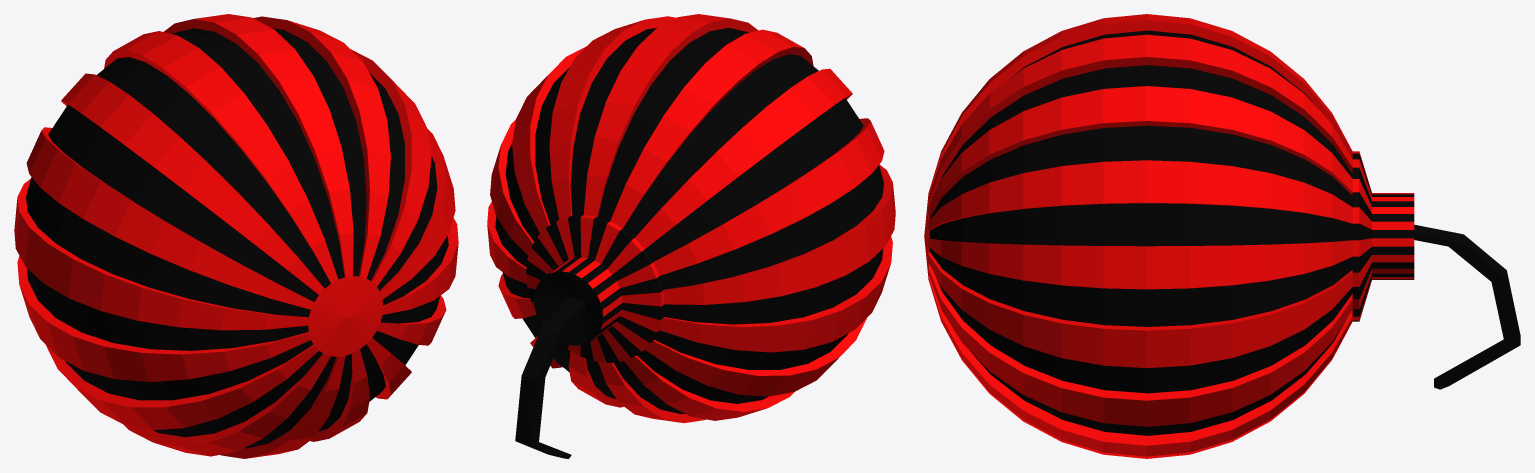
The model's file is bomb.fbx.
3 views of the same model, side by side, from view 1: azimuth 30°, elevation 25°; view 2: azimuth 150°, elevation 25°; view 3: azimuth 270°, elevation 25° (orthographic). The views are drawn at different scales.
Parts seen in each view (by area): view 1: Sphere; view 2: Sphere; view 3: Sphere.
Boxes of the visible parts, x1,y1,x2,y2 form: Sphere: (14, 14, 458, 458); Sphere: (487, 14, 895, 458); Sphere: (924, 14, 1520, 458).
Bounding box in the file's own units: 1 × 1 × 1.34.
